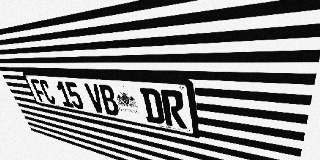1: (54, 81, 74, 108)
5: (64, 82, 85, 110)
B: (97, 84, 121, 117)
C: (38, 79, 57, 105)
D: (140, 88, 165, 125)
F: (30, 79, 48, 103)
R: (160, 89, 187, 129)
V: (84, 83, 106, 114)
